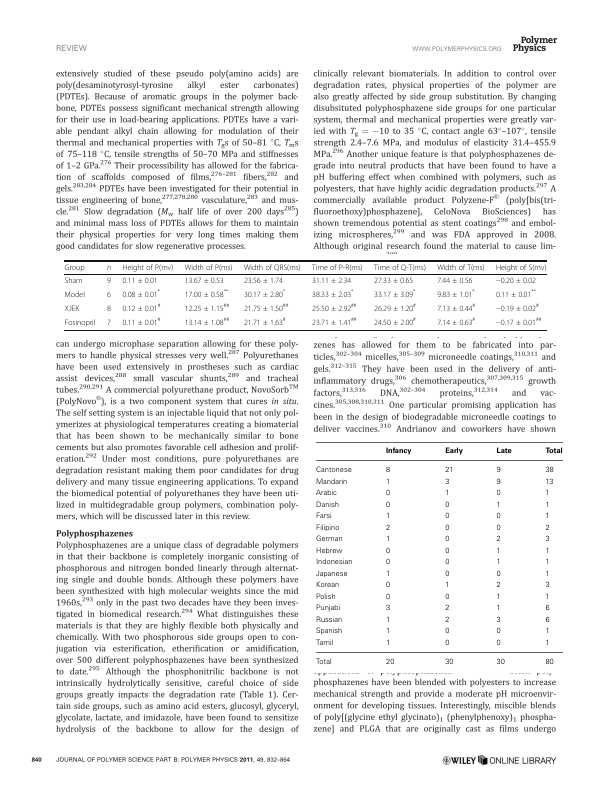borderless: (314, 441, 564, 667), (64, 259, 547, 330)
cell: (243, 263, 302, 272), (495, 316, 542, 327), (184, 302, 230, 313), (243, 302, 289, 313), (311, 302, 357, 313), (184, 316, 230, 327), (311, 316, 357, 327), (184, 288, 229, 299), (495, 302, 540, 313), (373, 263, 427, 272), (373, 302, 417, 313), (243, 316, 287, 327), (373, 316, 417, 327), (121, 263, 174, 272), (311, 263, 364, 272), (243, 288, 286, 299), (311, 288, 354, 299), (373, 288, 416, 299), (495, 263, 547, 272), (495, 288, 537, 299), (436, 263, 486, 272), (184, 263, 233, 272), (121, 288, 161, 299), (436, 288, 476, 299), (121, 302, 161, 313), (436, 302, 476, 313), (121, 316, 161, 327), (436, 316, 476, 327), (495, 276, 537, 285), (184, 276, 225, 285), (243, 276, 284, 285), (311, 276, 352, 285), (373, 276, 414, 285), (315, 558, 353, 567), (121, 276, 159, 285), (315, 466, 352, 475), (436, 276, 473, 285), (315, 478, 348, 487), (315, 570, 348, 579), (64, 318, 96, 327), (384, 447, 412, 456), (315, 535, 343, 544), (315, 547, 343, 556), (315, 616, 343, 625), (315, 627, 343, 636), (315, 604, 341, 613), (315, 524, 340, 533), (315, 581, 340, 590), (315, 501, 339, 510), (315, 489, 337, 498), (64, 290, 86, 299), (315, 593, 336, 602), (64, 263, 85, 272), (444, 447, 463, 456), (544, 447, 563, 456), (315, 639, 334, 648), (64, 276, 83, 285), (495, 447, 512, 456), (315, 512, 332, 521), (315, 658, 332, 667), (64, 304, 80, 313), (384, 658, 395, 667), (444, 466, 454, 475), (544, 466, 554, 475), (544, 478, 554, 487), (444, 658, 454, 667), (495, 658, 505, 667), (544, 658, 554, 667), (384, 466, 391, 475), (384, 478, 391, 487), (384, 489, 391, 498), (384, 501, 391, 510), (384, 512, 391, 521), (384, 524, 391, 533), (384, 535, 391, 544), (384, 547, 391, 556), (384, 558, 391, 567), (384, 570, 391, 579), (384, 581, 391, 590), (384, 593, 391, 602), (384, 604, 391, 613), (384, 616, 391, 625), (384, 627, 391, 636), (384, 639, 391, 648), (495, 466, 501, 475), (444, 478, 450, 487), (495, 478, 501, 487), (444, 489, 450, 498), (495, 489, 501, 498), (544, 489, 550, 498), (444, 501, 450, 510), (495, 501, 501, 510), (544, 501, 550, 510), (444, 512, 450, 521), (495, 512, 501, 521), (544, 512, 550, 521), (444, 524, 450, 533), (495, 524, 501, 533), (544, 524, 550, 533), (444, 535, 450, 544), (495, 535, 501, 544), (544, 535, 550, 544), (444, 547, 450, 556), (495, 547, 501, 556), (544, 547, 550, 556), (444, 558, 450, 567), (495, 558, 501, 567), (544, 558, 550, 567), (444, 570, 450, 579), (495, 570, 501, 579), (544, 570, 550, 579), (444, 581, 450, 590), (495, 581, 501, 590), (544, 581, 550, 590), (444, 593, 450, 602), (495, 593, 501, 602), (544, 593, 550, 602), (444, 604, 450, 613), (495, 604, 501, 613), (544, 604, 550, 613), (444, 616, 450, 625), (495, 616, 501, 625), (544, 616, 550, 625), (444, 627, 450, 636), (495, 627, 501, 636), (544, 627, 550, 636), (444, 639, 450, 648), (495, 639, 501, 648), (544, 639, 550, 648), (106, 276, 112, 285), (106, 290, 112, 299), (106, 304, 112, 313), (106, 318, 112, 327), (106, 265, 112, 271)
